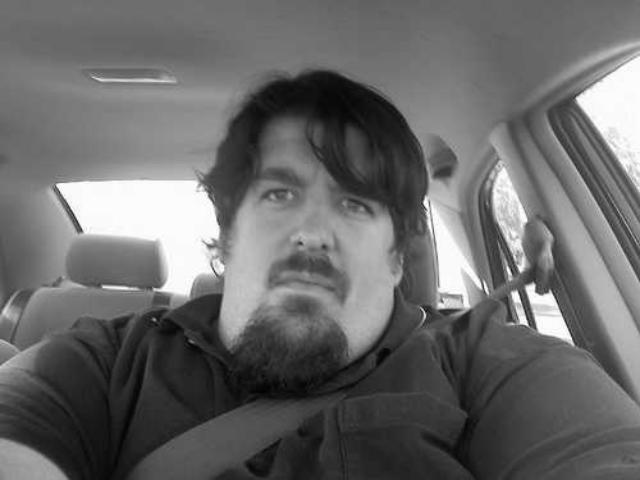SafeDriving: (327, 181, 382, 224), (253, 172, 304, 212)
Seatbelt: (124, 218, 556, 480)
